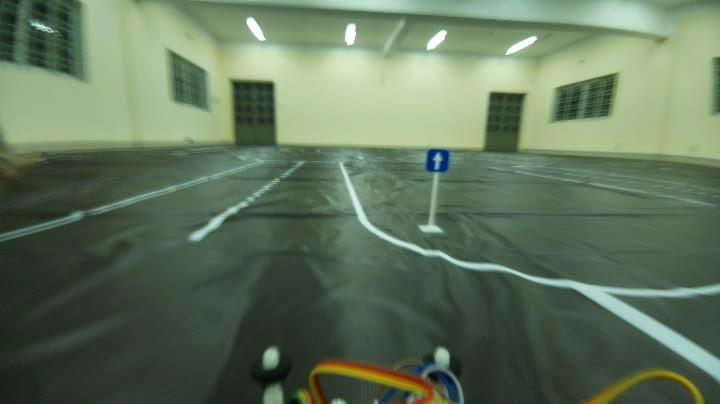onewayroad: (421, 145, 450, 180)
